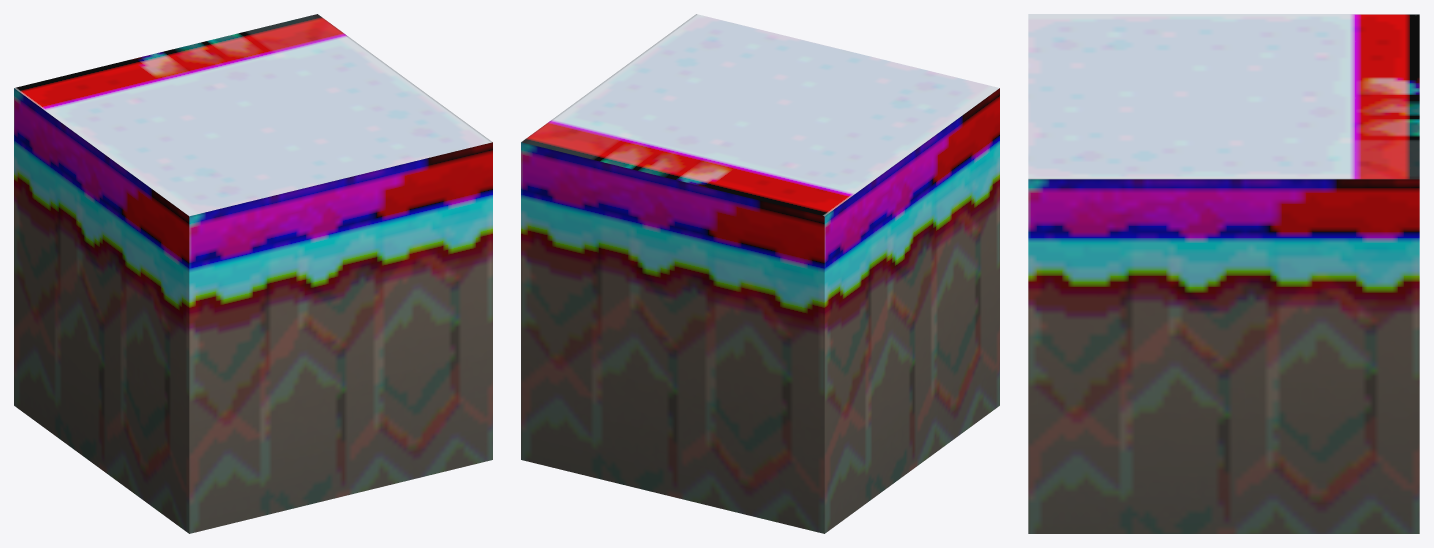
The model's file is arch_winter_wall_box.FBX.
3 renders of one model, left to right at view 1: azimuth 30°, elevation 25°; view 2: azimuth 150°, elevation 25°; view 3: azimuth 270°, elevation 25°, orthographic. The views are drawn at different scales.
Visible parts, largest first — view 1: arch_winter_wall_box; view 2: arch_winter_wall_box; view 3: arch_winter_wall_box.
Part boxes in pixels (left/top/right/bottom): arch_winter_wall_box: left=14, top=14, right=492, bottom=533; arch_winter_wall_box: left=521, top=14, right=999, bottom=533; arch_winter_wall_box: left=1028, top=14, right=1419, bottom=533.
Bounding box in the file's own units: 2 × 2 × 2.
1 material, 1 textured.
